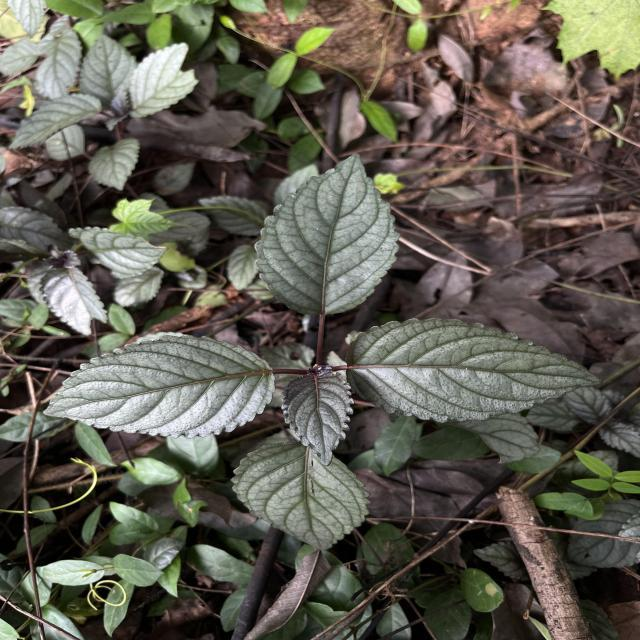Hemigraphis colorata: (343, 314, 605, 426), (41, 330, 279, 442), (250, 148, 402, 320), (227, 439, 374, 553), (278, 368, 356, 468), (66, 224, 174, 284)
